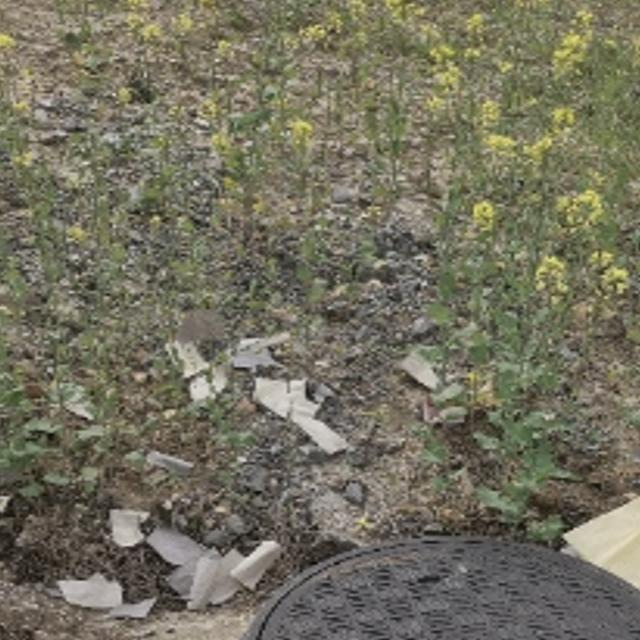uncovered: (213, 533, 640, 640)
